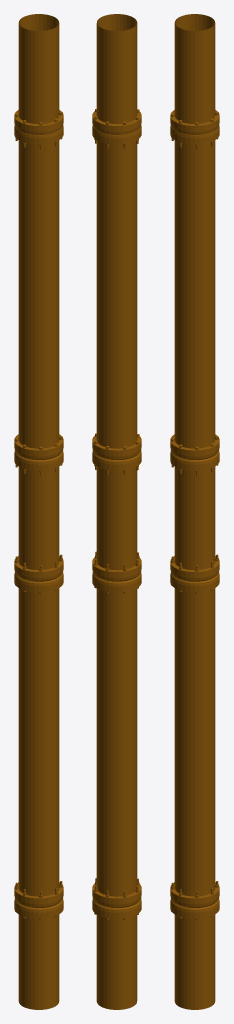
The model's file is small_pipe.obj.
The picture shows the model from 3 angles, left to right: view 1: azimuth 90°, elevation 25°; view 2: azimuth 150°, elevation 25°; view 3: azimuth 270°, elevation 25°; orthographic projection.
Size of the model in its own units: 0.1881 by 4.1 by 0.1881.
